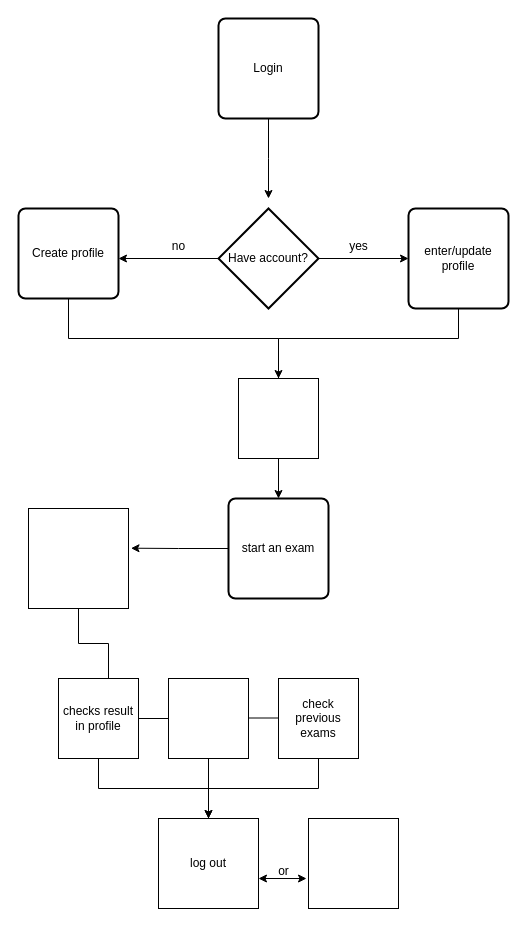
This 526x926 diagram has some shape labels left out. Here are the shapes that lost their labels. From the top down, the centre of each, then its label:
At (278,418): "recives email with link to exam".
At (78,558): "recives email w exam sertificate".
At (208,718): "download exam to PDF".
At (353,863): "delete account".
